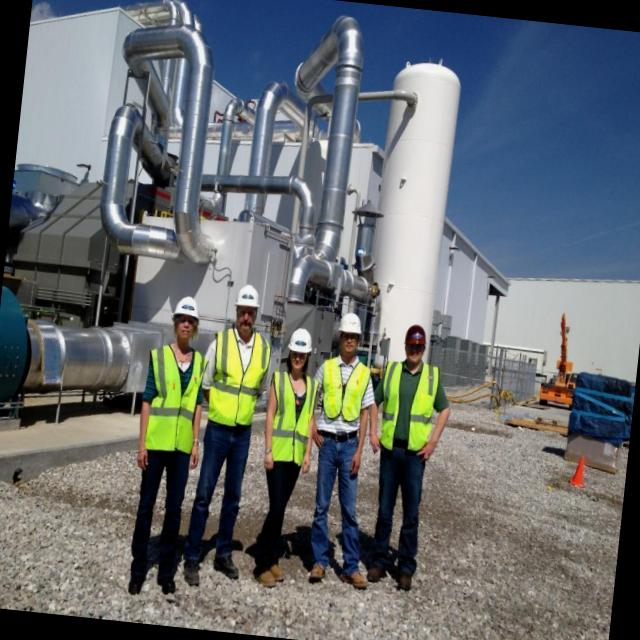helmet: (170, 292, 208, 328), (332, 308, 367, 347), (282, 324, 316, 361), (229, 282, 265, 313), (400, 322, 430, 352)
vest: (136, 341, 212, 460), (201, 326, 270, 431), (375, 358, 443, 454), (260, 370, 318, 470), (311, 356, 379, 434)
